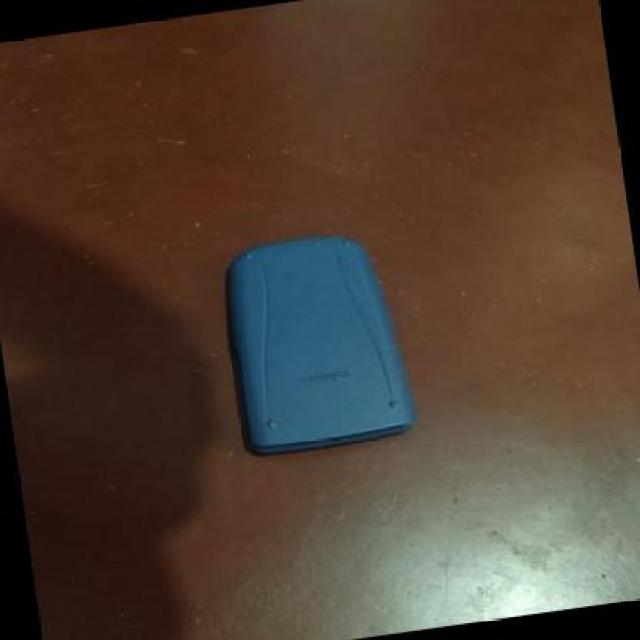Calculator: (211, 218, 418, 460)
